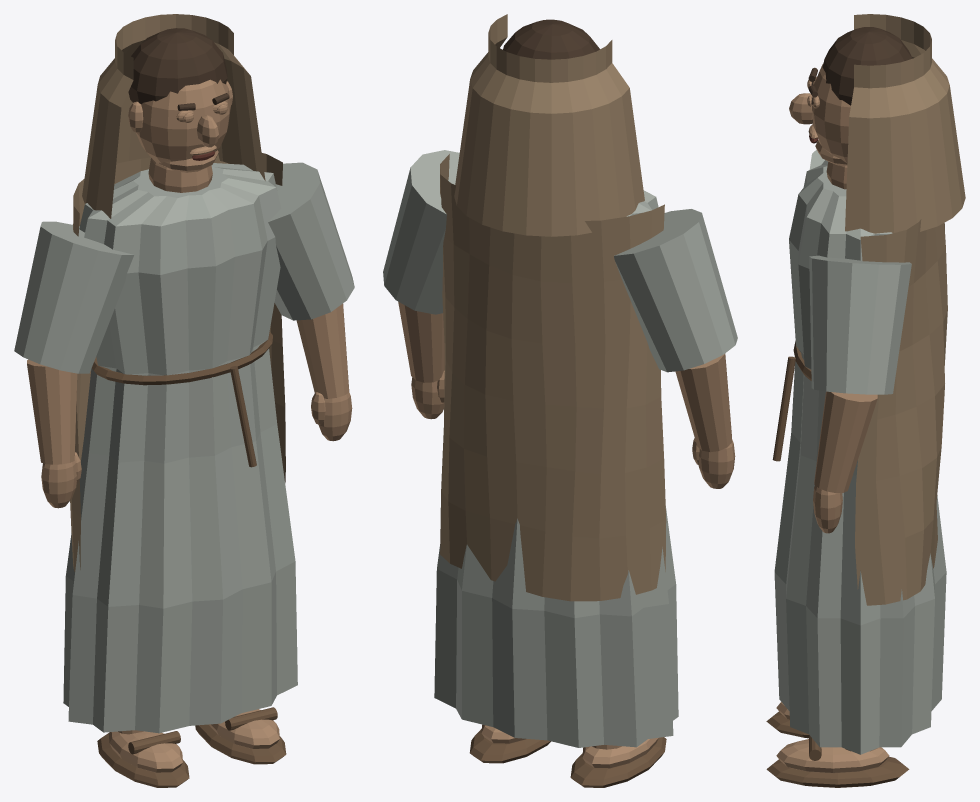
Rendered from listener-woman.glb.
3 renders of one model, left to right at view 1: azimuth 30°, elevation 25°; view 2: azimuth 150°, elevation 25°; view 3: azimuth 270°, elevation 25°, orthographic. The views are drawn at different scales.
Visible parts, largest first — view 1: listener-woman_torso_mesh, listener-woman_head_mesh, listener-woman_arm_left_mesh, listener-woman_arm_right_mesh, listener-woman_forearm_left_mesh, listener-woman_forearm_right_mesh, listener-woman_foot_left_mesh, listener-woman_foot_right_mesh; view 2: listener-woman_torso_mesh, listener-woman_head_mesh, listener-woman_arm_left_mesh, listener-woman_arm_right_mesh, listener-woman_forearm_left_mesh, listener-woman_forearm_right_mesh, listener-woman_foot_left_mesh, listener-woman_foot_right_mesh; view 3: listener-woman_torso_mesh, listener-woman_head_mesh, listener-woman_arm_right_mesh, listener-woman_forearm_right_mesh, listener-woman_foot_right_mesh, listener-woman_foot_left_mesh.
Part boxes in pixels (<box>): listener-woman_torso_mesh: <box>63,153,297,733</box>; listener-woman_head_mesh: <box>82,14,265,218</box>; listener-woman_arm_left_mesh: <box>14,221,133,373</box>; listener-woman_arm_right_mesh: <box>268,162,354,320</box>; listener-woman_forearm_left_mesh: <box>27,359,81,508</box>; listener-woman_forearm_right_mesh: <box>296,303,352,441</box>; listener-woman_foot_left_mesh: <box>97,731,189,787</box>; listener-woman_foot_right_mesh: <box>195,707,286,764</box>; listener-woman_torso_mesh: <box>434,154,678,747</box>; listener-woman_head_mesh: <box>454,14,644,236</box>; listener-woman_arm_left_mesh: <box>614,209,737,372</box>; listener-woman_arm_right_mesh: <box>383,150,459,314</box>; listener-woman_forearm_left_mesh: <box>675,353,735,488</box>; listener-woman_forearm_right_mesh: <box>398,302,444,419</box>; listener-woman_foot_left_mesh: <box>570,737,666,787</box>; listener-woman_foot_right_mesh: <box>469,724,550,763</box>; listener-woman_torso_mesh: <box>772,160,947,754</box>; listener-woman_head_mesh: <box>789,14,965,233</box>; listener-woman_arm_right_mesh: <box>809,255,911,394</box>; listener-woman_forearm_right_mesh: <box>813,391,877,533</box>; listener-woman_foot_right_mesh: <box>766,735,909,787</box>; listener-woman_foot_left_mesh: <box>766,702,808,738</box>.
Bounding box in the file's own units: 0.8501 × 1.76 × 0.44.
